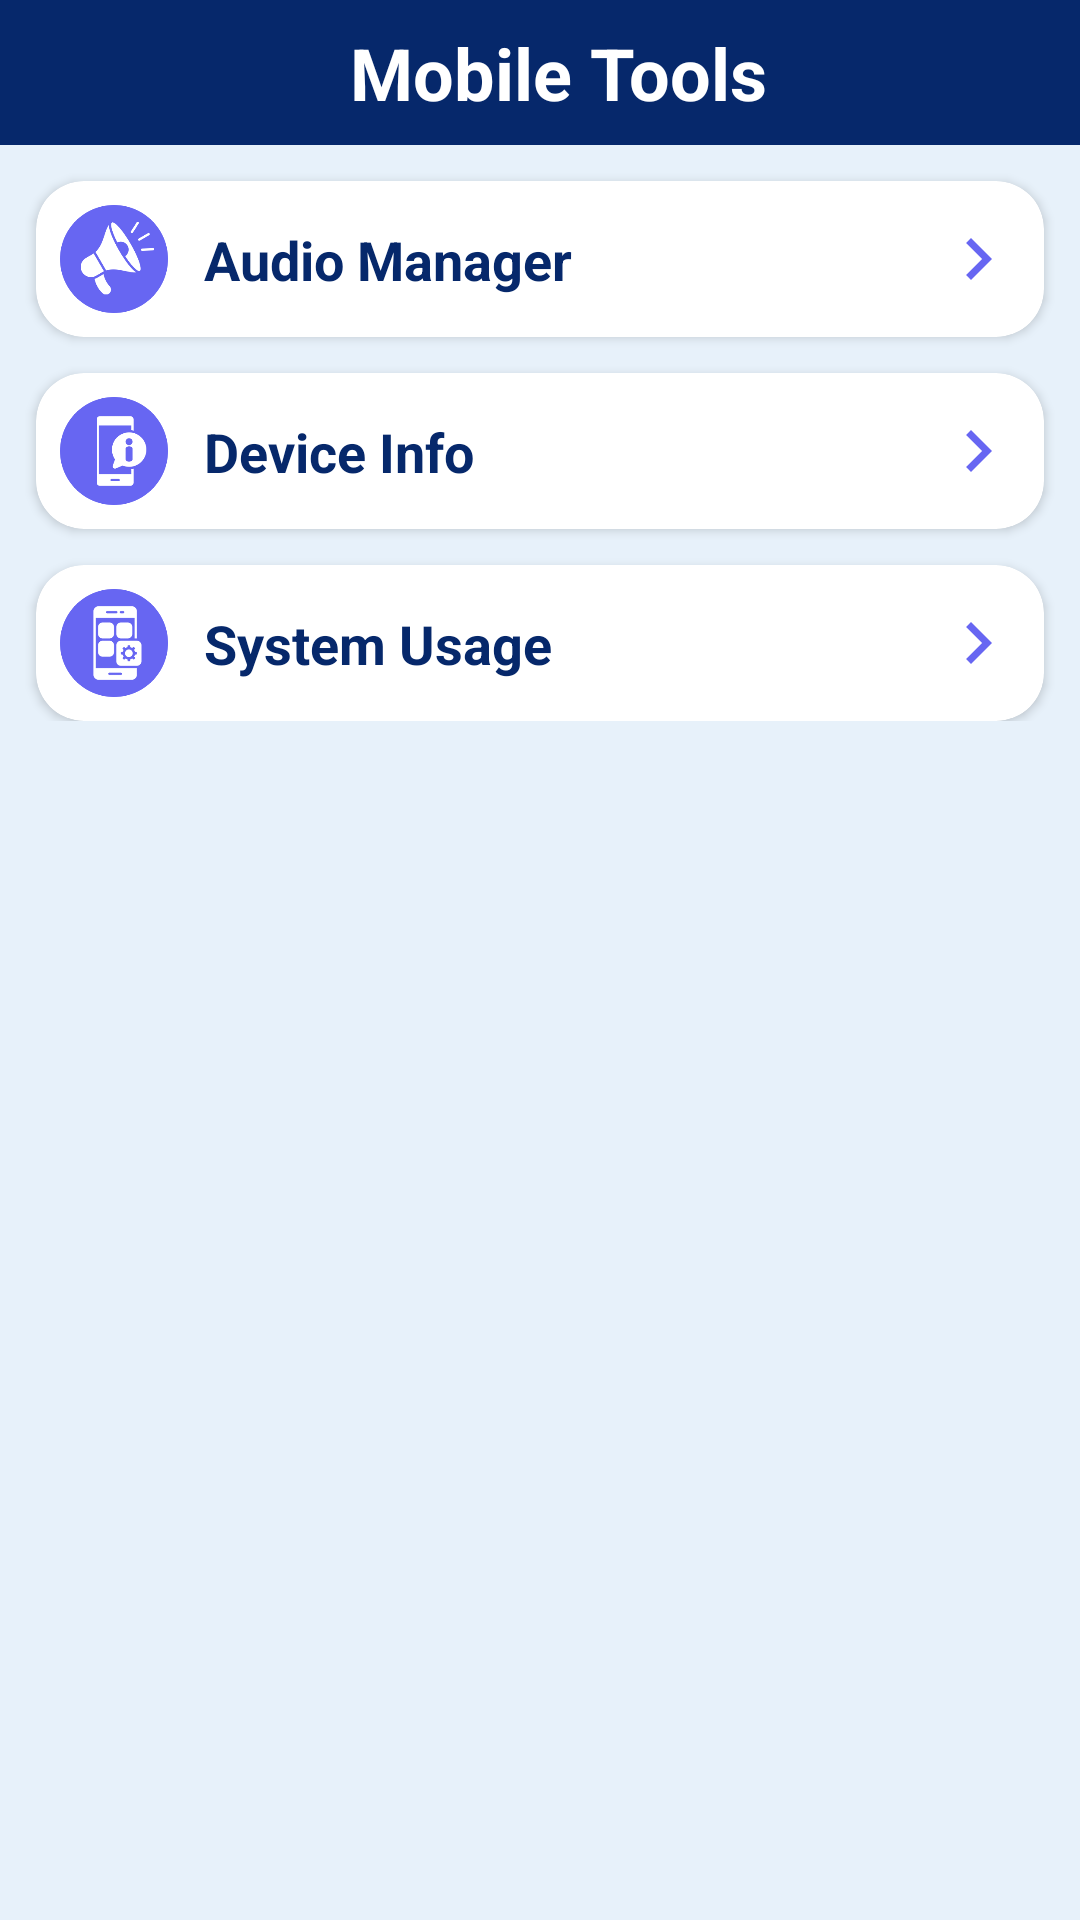

Where icons sit on this 1080w x 1920h app screen, as (x1, y1, x2, y2):
arrow right: (966, 238, 992, 280), (966, 430, 992, 472), (966, 622, 992, 664)
